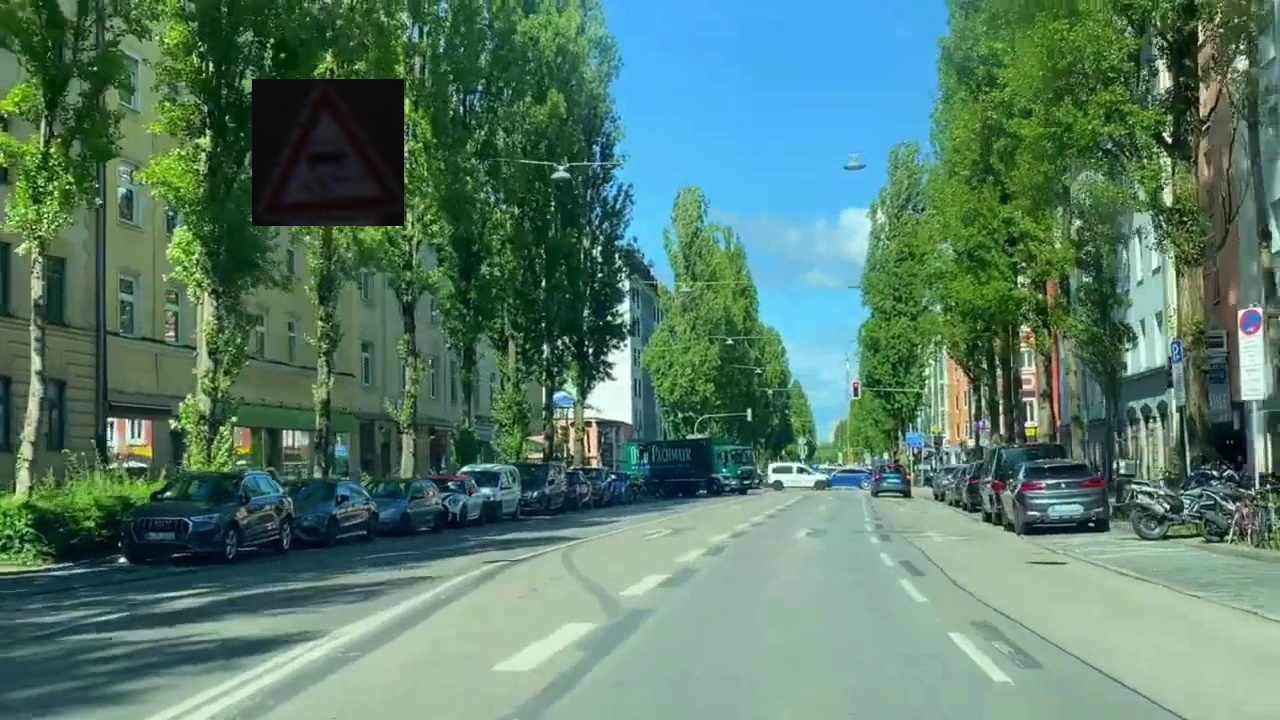Slippery: (252, 79, 404, 226)
